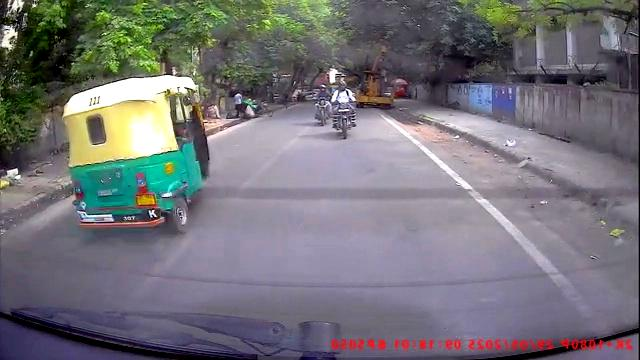motorcycle_with_helmet: (330, 74, 358, 141), (314, 81, 331, 127)
